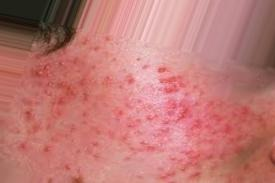Acne: (19, 42, 265, 169)
